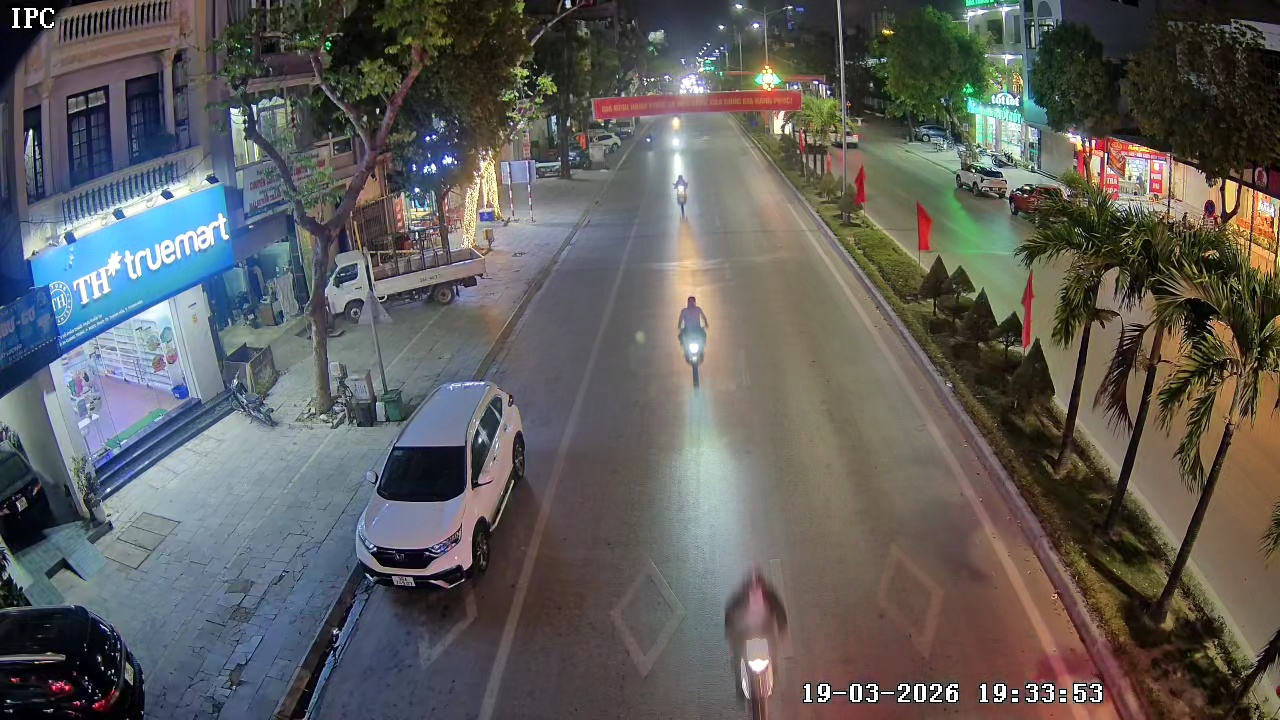car: (353, 378, 532, 598), (0, 603, 150, 719)
motorbike: (718, 559, 792, 719), (675, 293, 710, 388), (670, 172, 691, 216)
